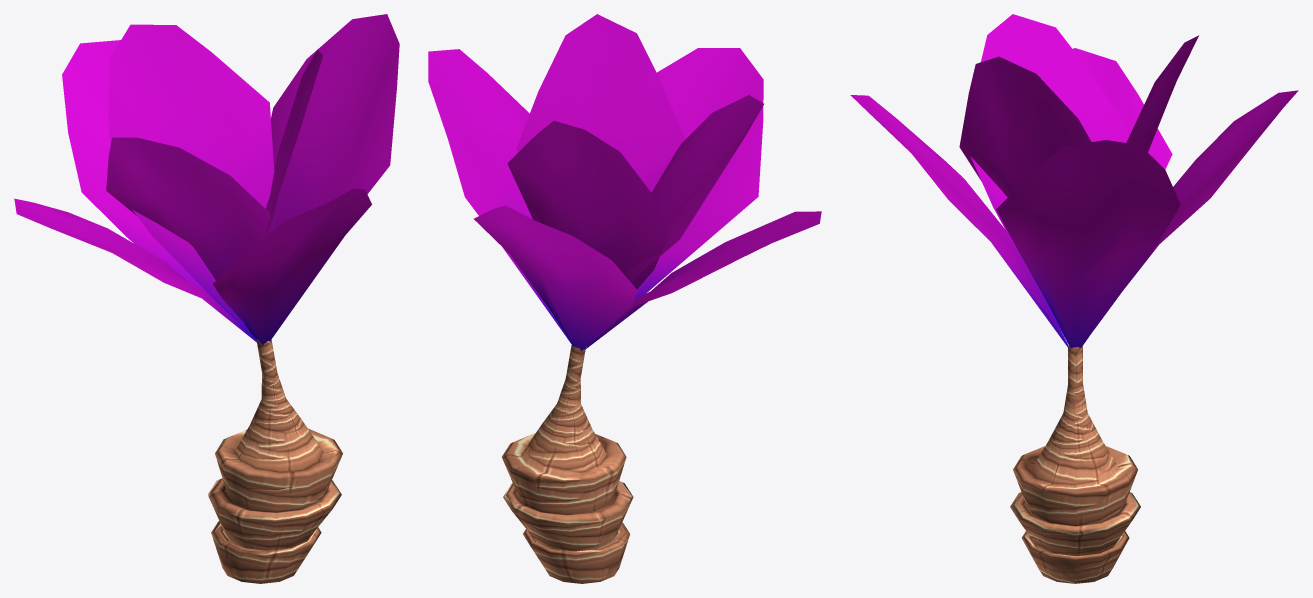
File: Tree_Palm_09.fbx
3 renders of one model, left to right at view 1: azimuth 30°, elevation 25°; view 2: azimuth 150°, elevation 25°; view 3: azimuth 270°, elevation 25°, orthographic. The views are drawn at different scales.
Parts seen in each view (by area): view 1: Palm_09; view 2: Palm_09; view 3: Palm_09.
Boxes of the visible parts, x1,y1,x2,y2 form: Palm_09: (14, 14, 399, 583); Palm_09: (428, 14, 821, 583); Palm_09: (850, 14, 1298, 583).
Bounding box in the file's own units: 255 × 338 × 263.
